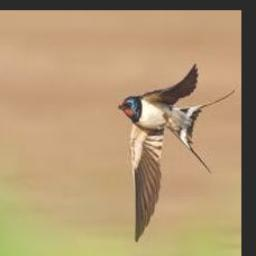Swallow: (117, 63, 235, 243)
